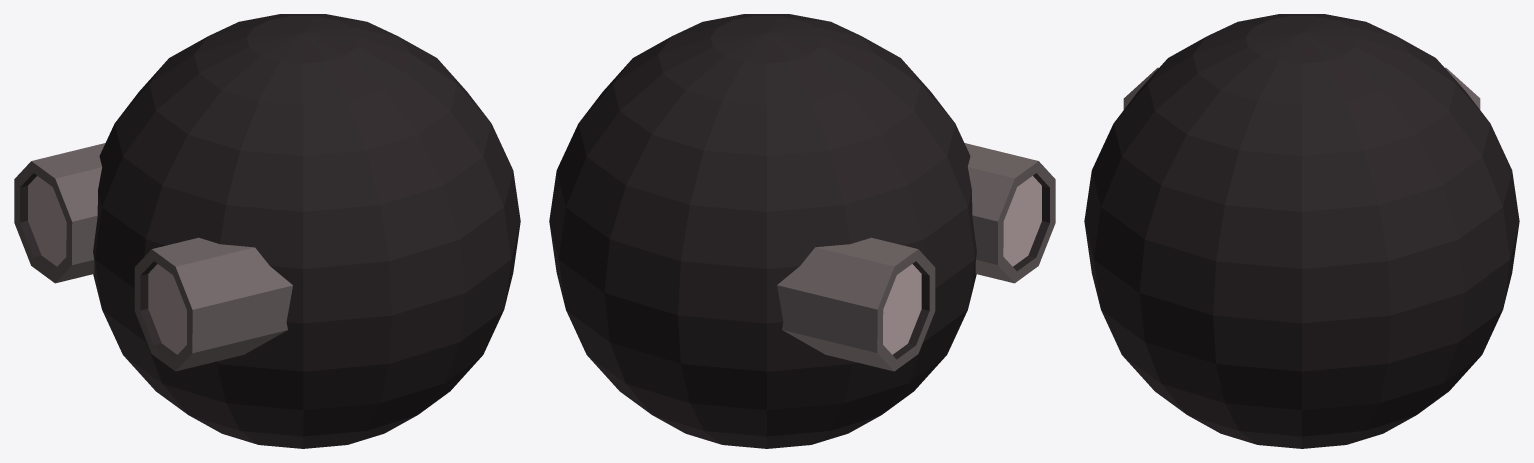
Rendered from PoolGuy.fbx.
3 views of the same model, side by side, from view 1: azimuth 30°, elevation 25°; view 2: azimuth 150°, elevation 25°; view 3: azimuth 270°, elevation 25° (orthographic).
Parts seen in each view (by area): view 1: PoolGuy; view 2: PoolGuy; view 3: PoolGuy.
Part boxes in pixels (x1,y1,x2,y2): PoolGuy: (14, 14, 520, 448); PoolGuy: (549, 14, 1055, 448); PoolGuy: (1084, 14, 1519, 448).
Bounding box in the file's own units: 2.05 × 1.99 × 2.
